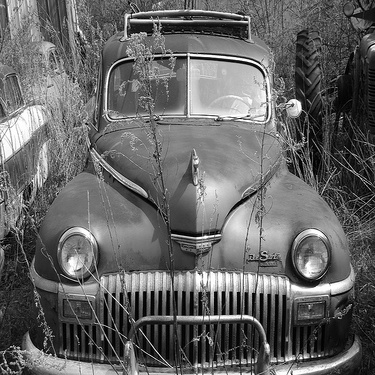car: (3, 4, 371, 371), (289, 1, 371, 194), (1, 53, 72, 256)
